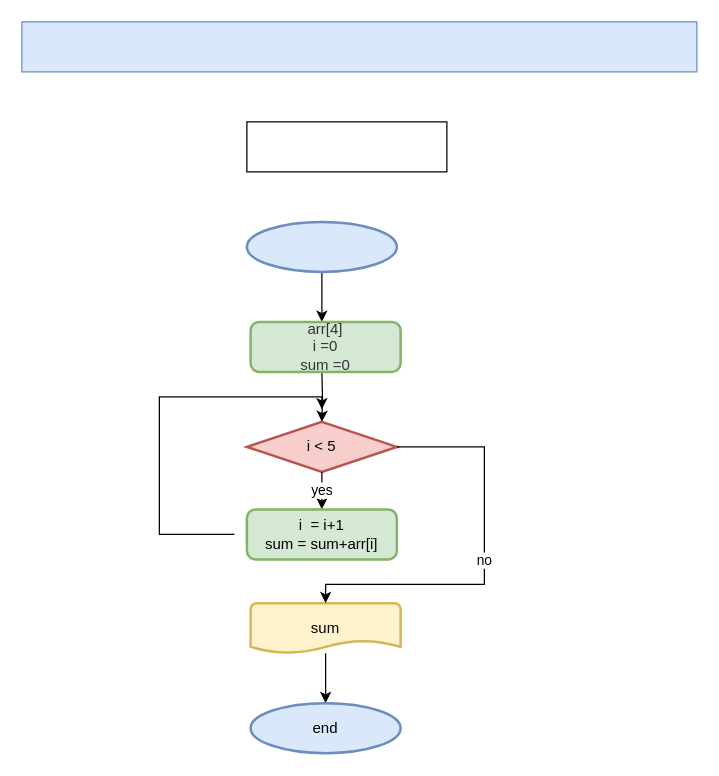
Image size: 719x776. Some labels were removed from this diagram. The centre of each missing label's shape, as x and y in pixels:
Alrorithm Basic: point 359,46
start: point 321,246
두변수의 데이터교환: point 346,146
